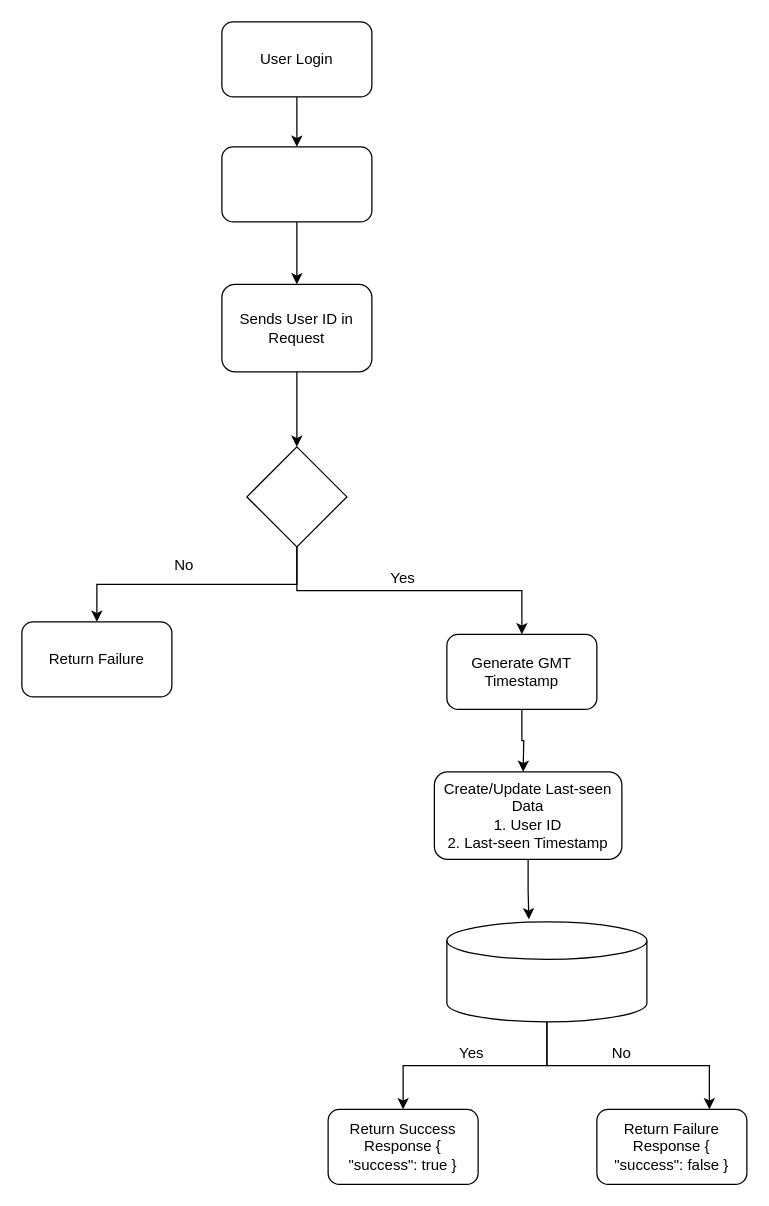
Image size: 769x1206. Some labels were removed from this diagram. The shapes that lost their labels are listed below. From the top down, each one's box as (x1, y1, x2, y2) in pixels, then its label:
(221, 146, 372, 222): User opens Notifications Page
(246, 446, 347, 547): Is User ID Valid ?
(446, 921, 647, 1022): Store Last-seen timestamp User_Notification_Status
